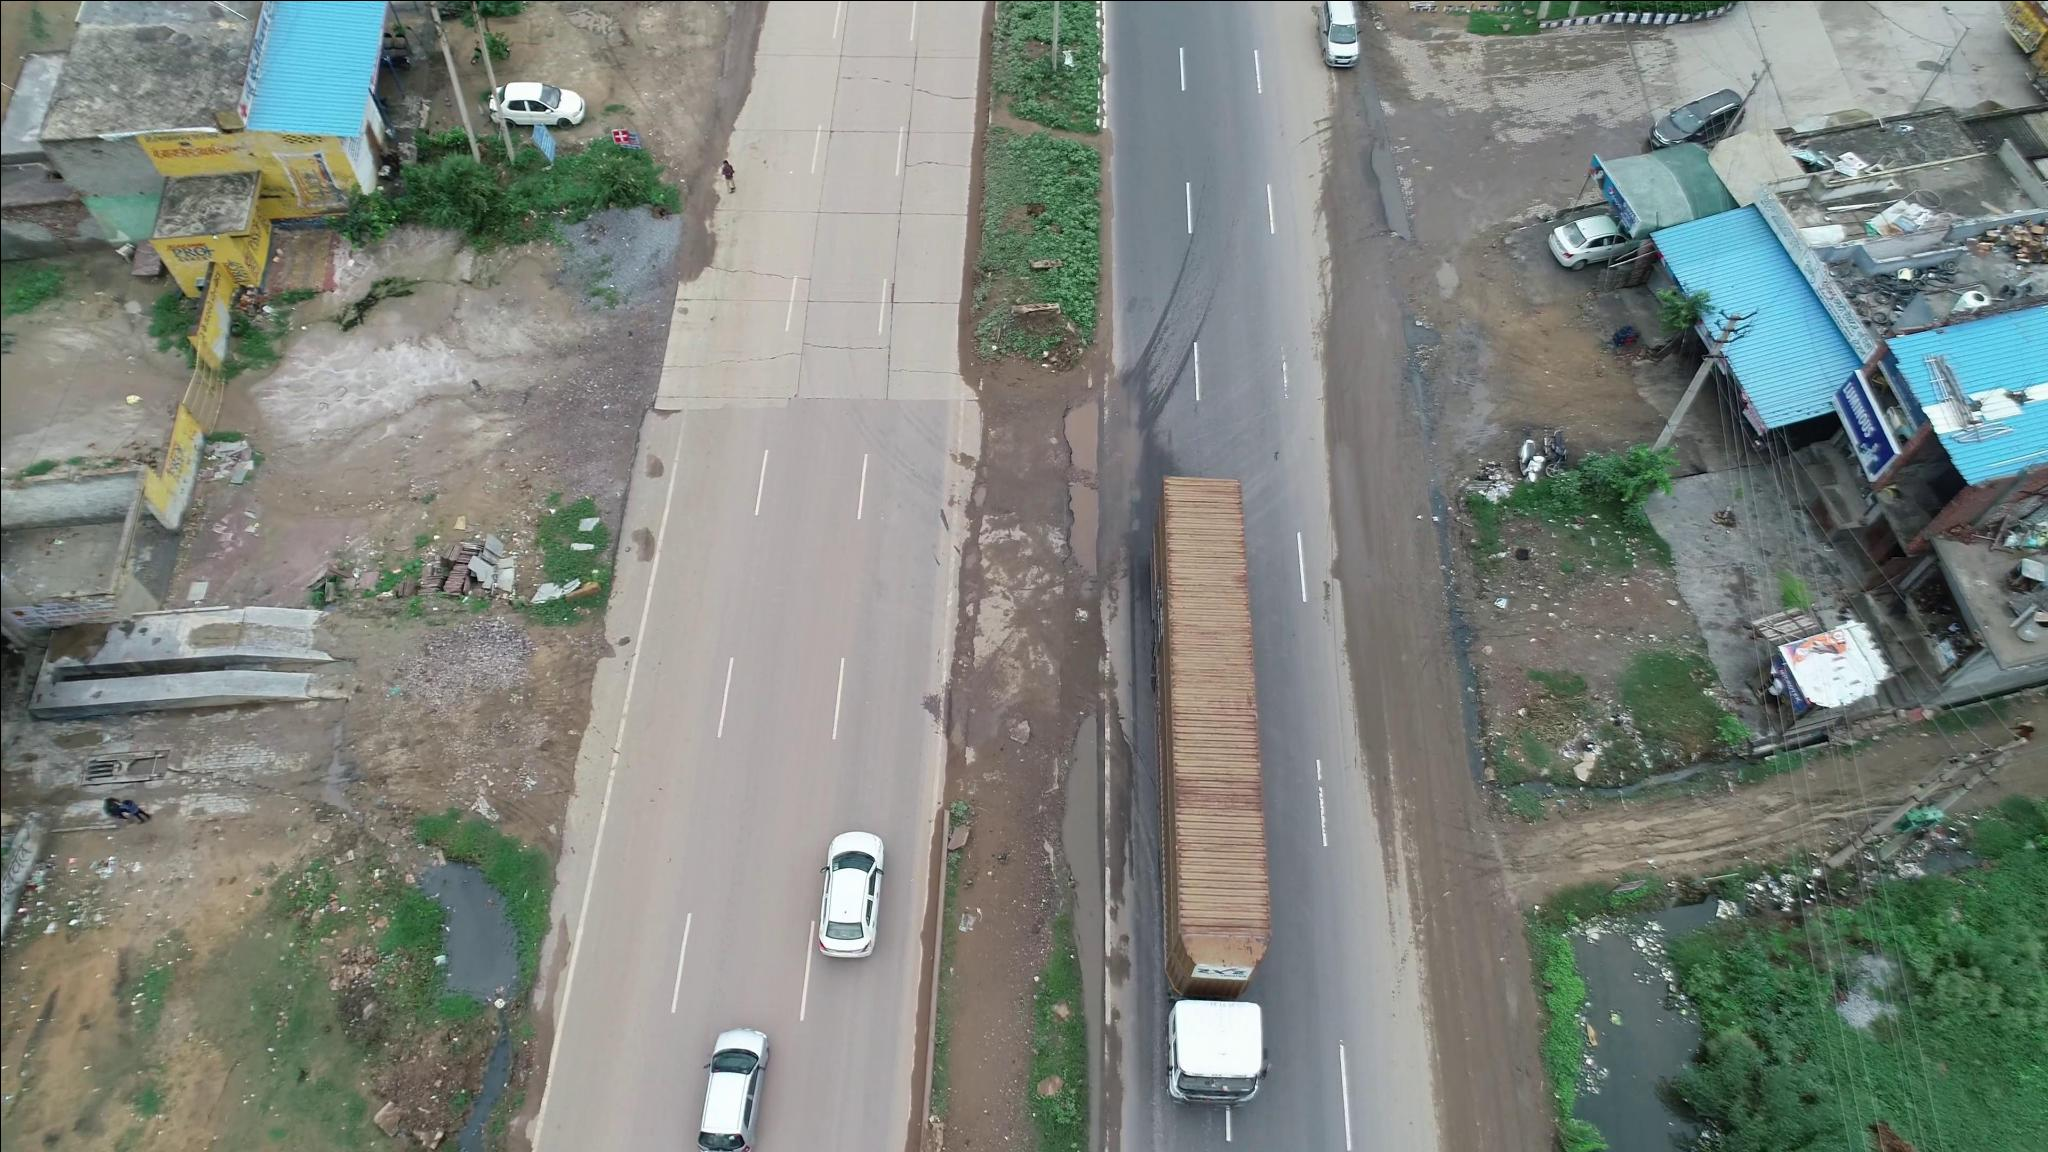Muddy_road: (1315, 339, 1423, 743), (1393, 805, 1515, 1134)
